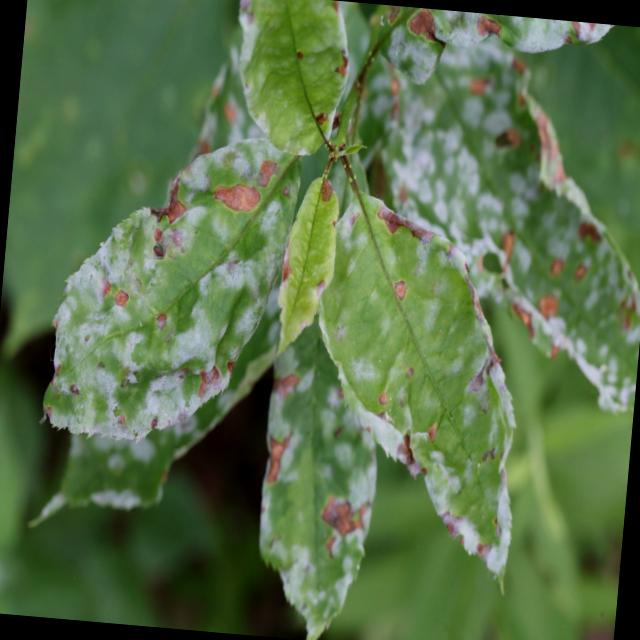powdery_mildew: (382, 39, 640, 410), (44, 138, 300, 438), (319, 192, 513, 577), (260, 316, 376, 640), (240, 0, 348, 153)
